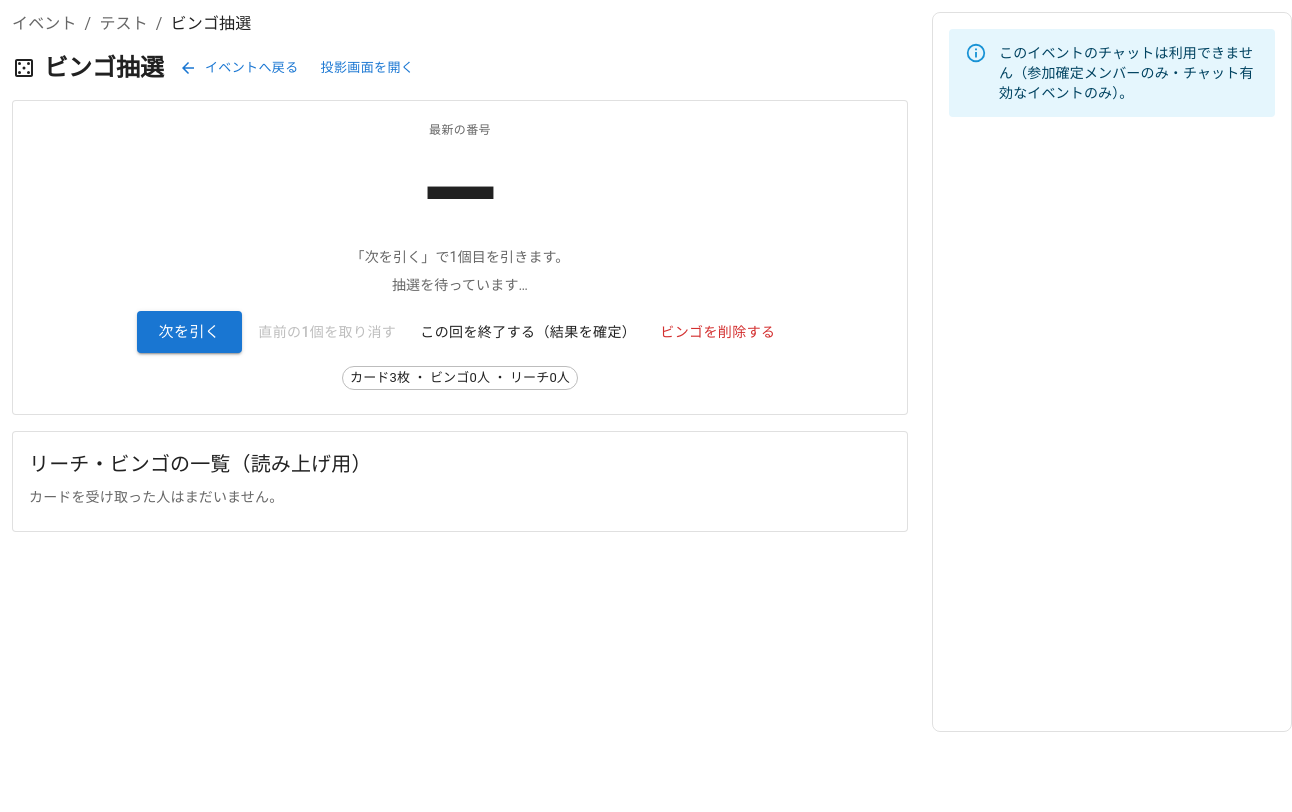
ビンゴ抽選コントロール (#436) › 初回の draw 応答の番号を、/status の取り直しを待たずにその場で表示する
Click the button "次を引く". click: click(189, 332)
box: [136,311,242,353]
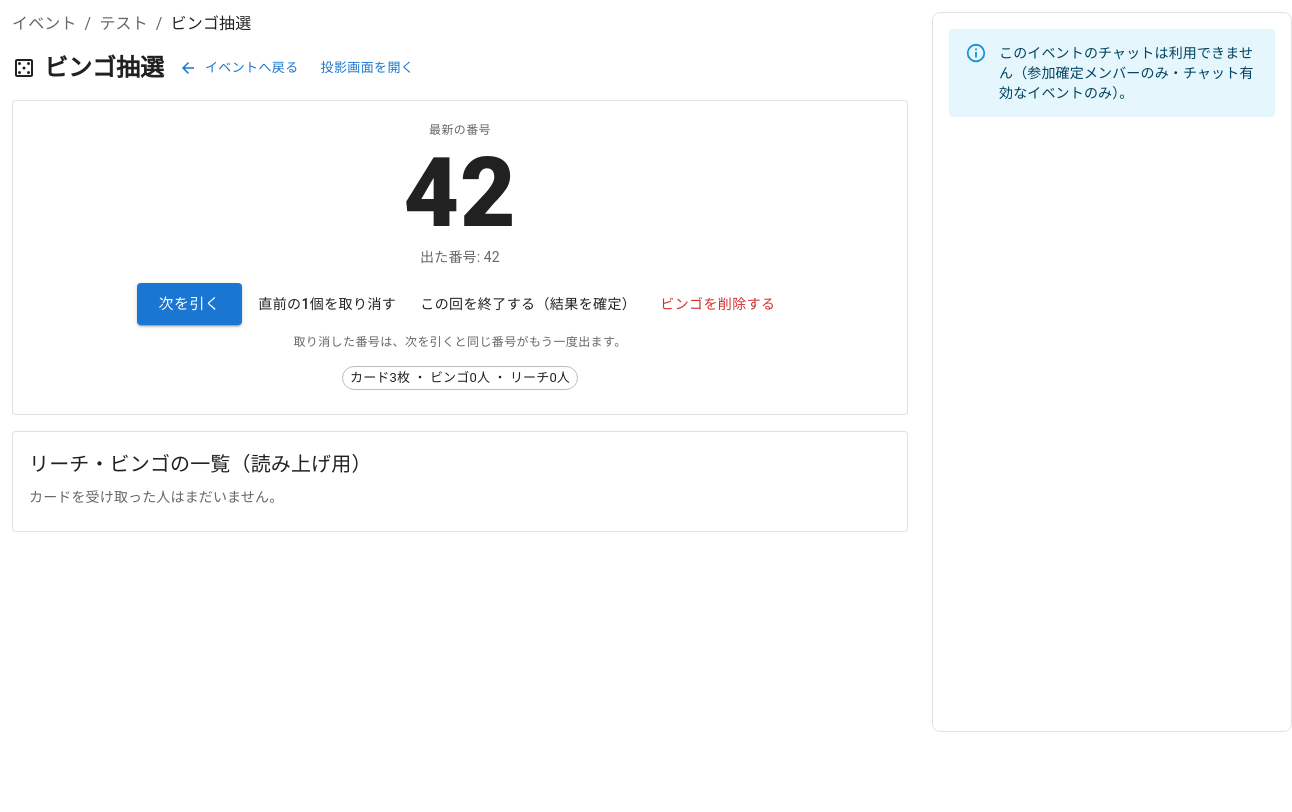
Check: the text "42" is shown, box [404,137,517,249]
